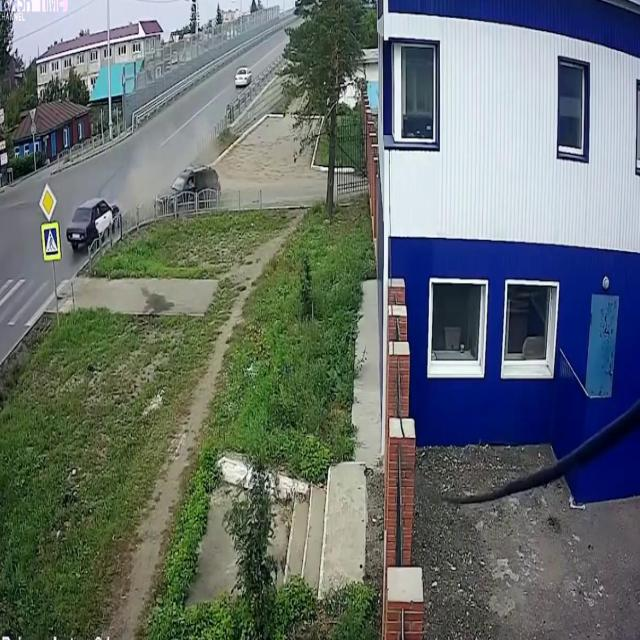accident: (63, 156, 225, 268)
